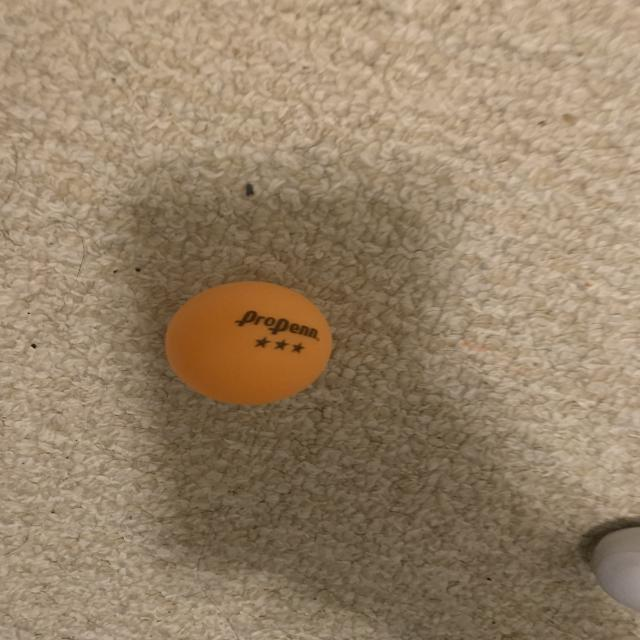ping-pong-ball: (154, 276, 340, 413)
